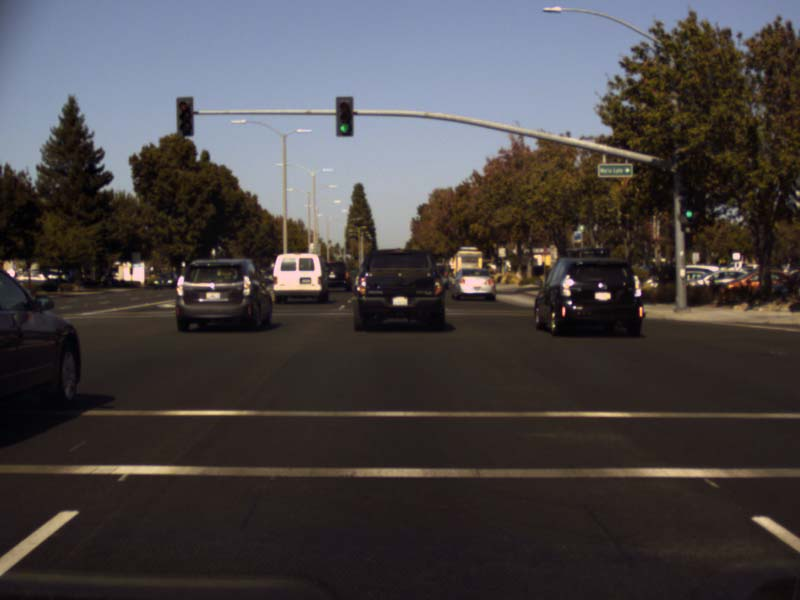Green: (336, 97, 352, 136), (682, 189, 697, 224)
Red: (177, 97, 193, 135)
